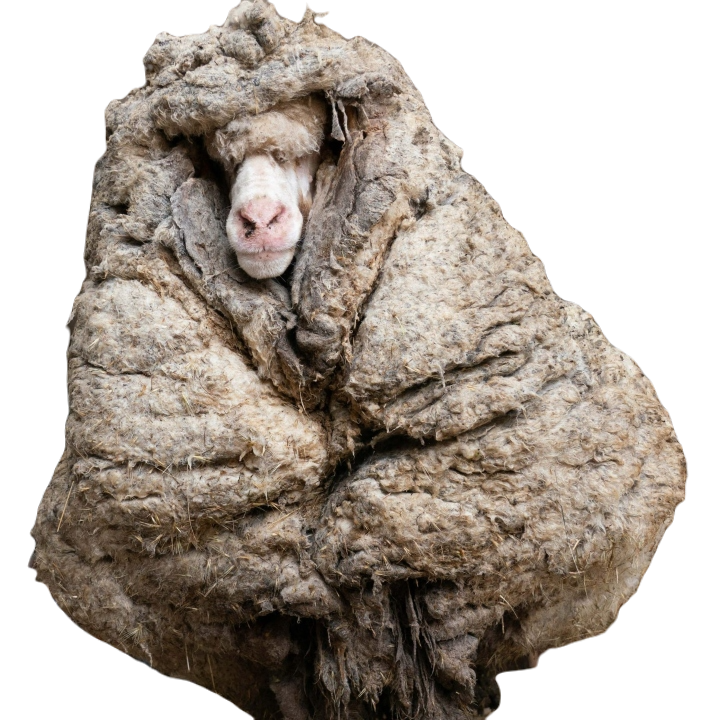Sheep: (22, 0, 689, 719)
